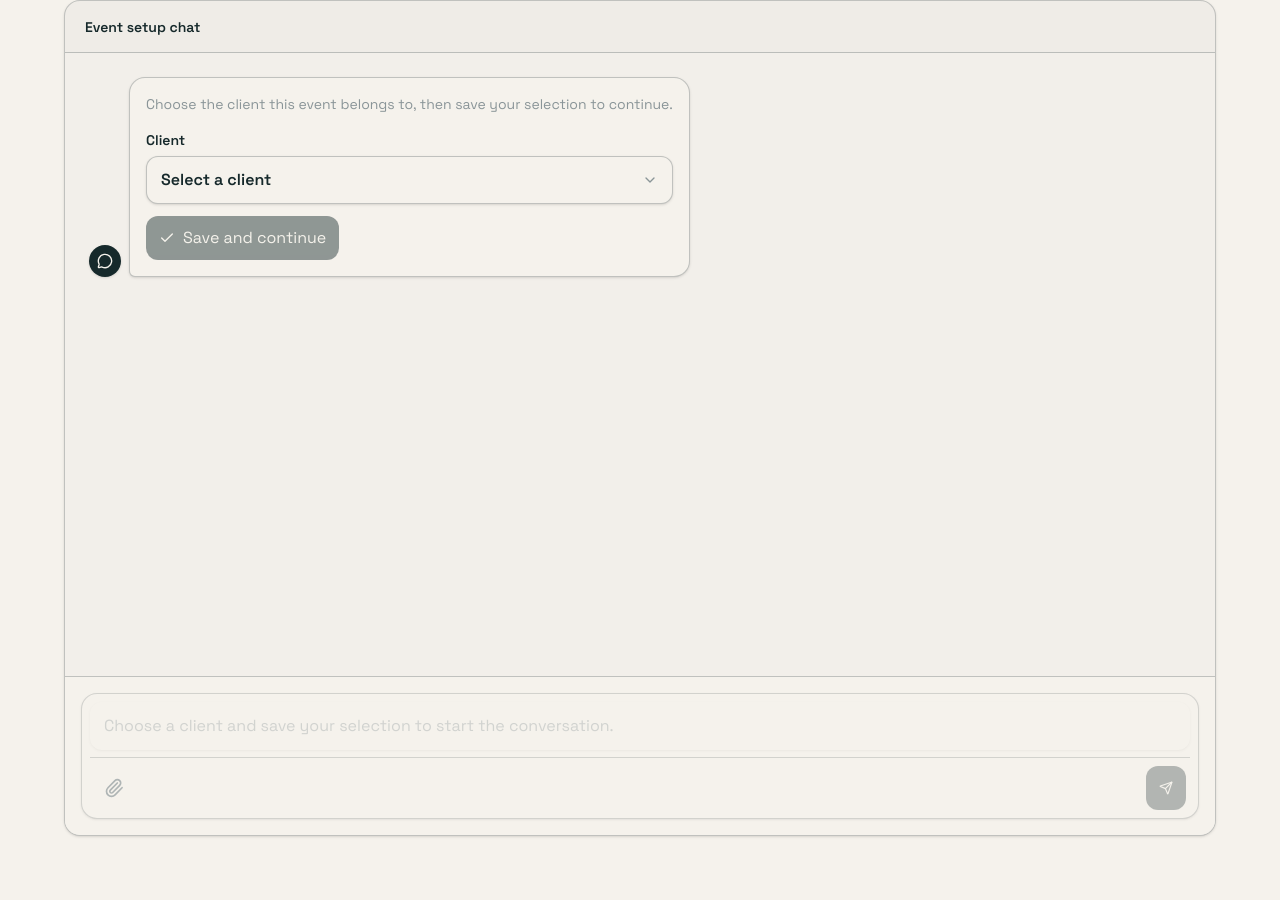
Test: CreateEventPage platform administrator flow › lets SUPER_ADMIN reject a suggested name in the same setup chat
Click the button "Select a client" at (216, 180), box top-left (146, 156), bottom-right (673, 204)
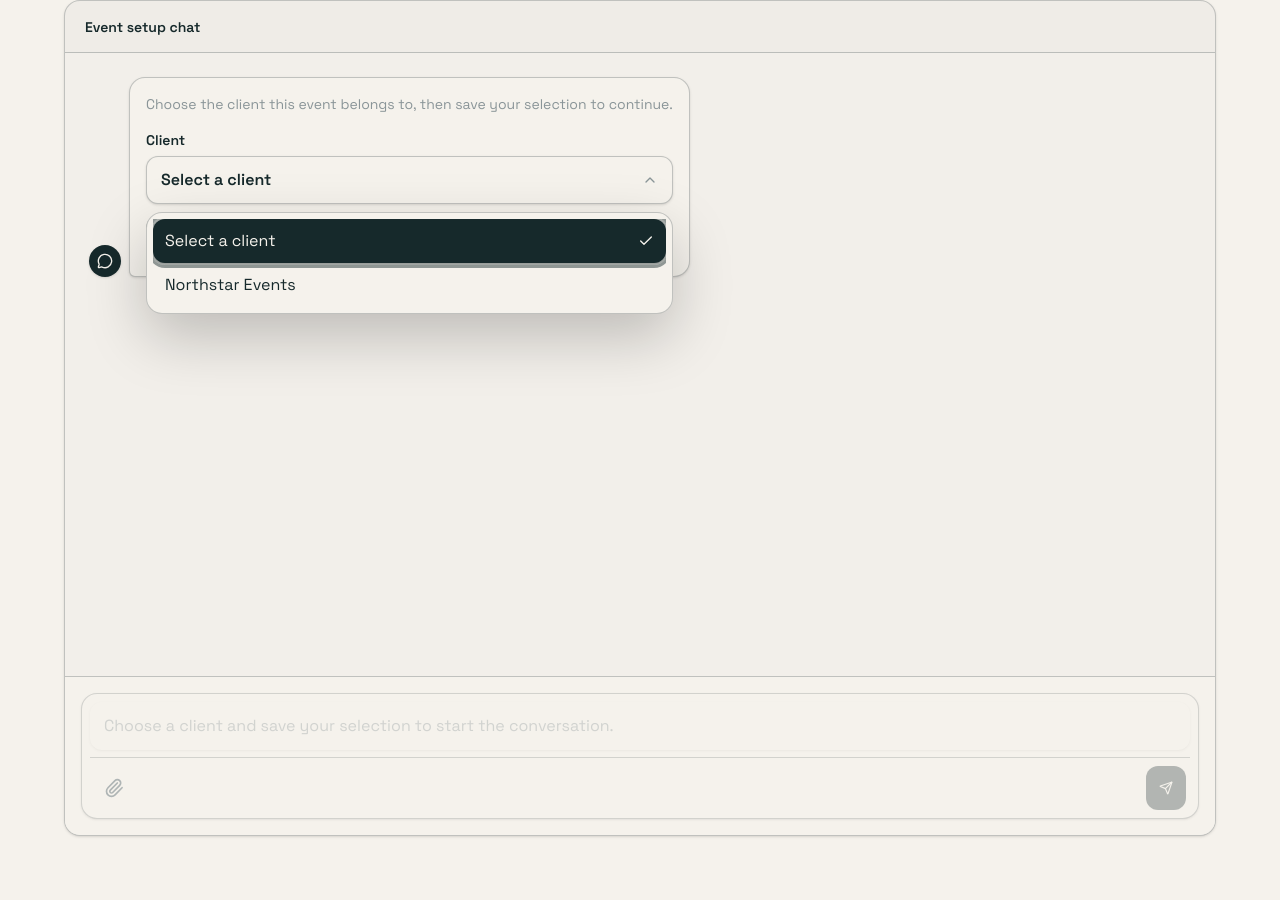
Click the option "Northstar Events" at (230, 284), box top-left (153, 263), bottom-right (666, 307)
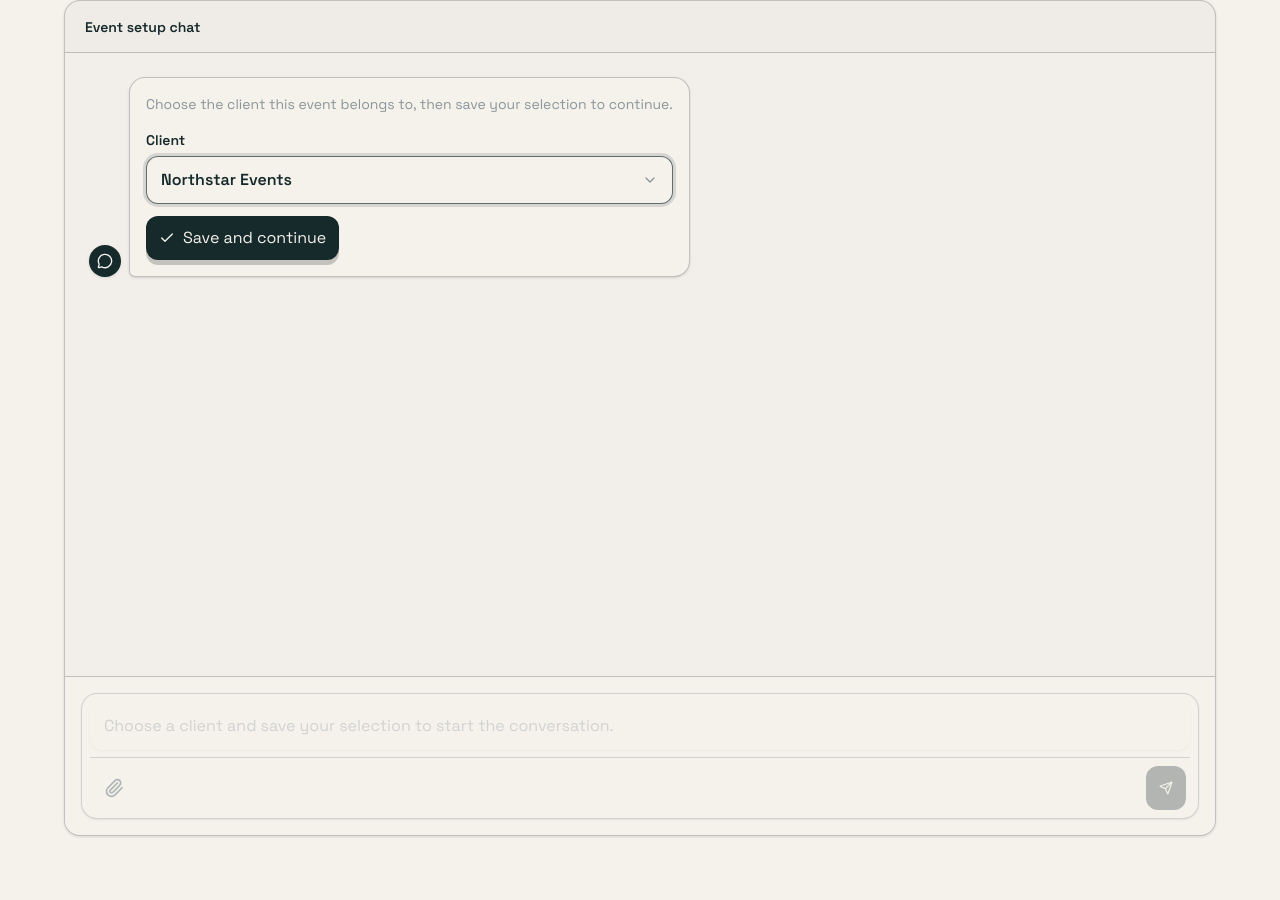
Click the button "Save and continue" at (243, 238), box top-left (146, 216), bottom-right (339, 260)
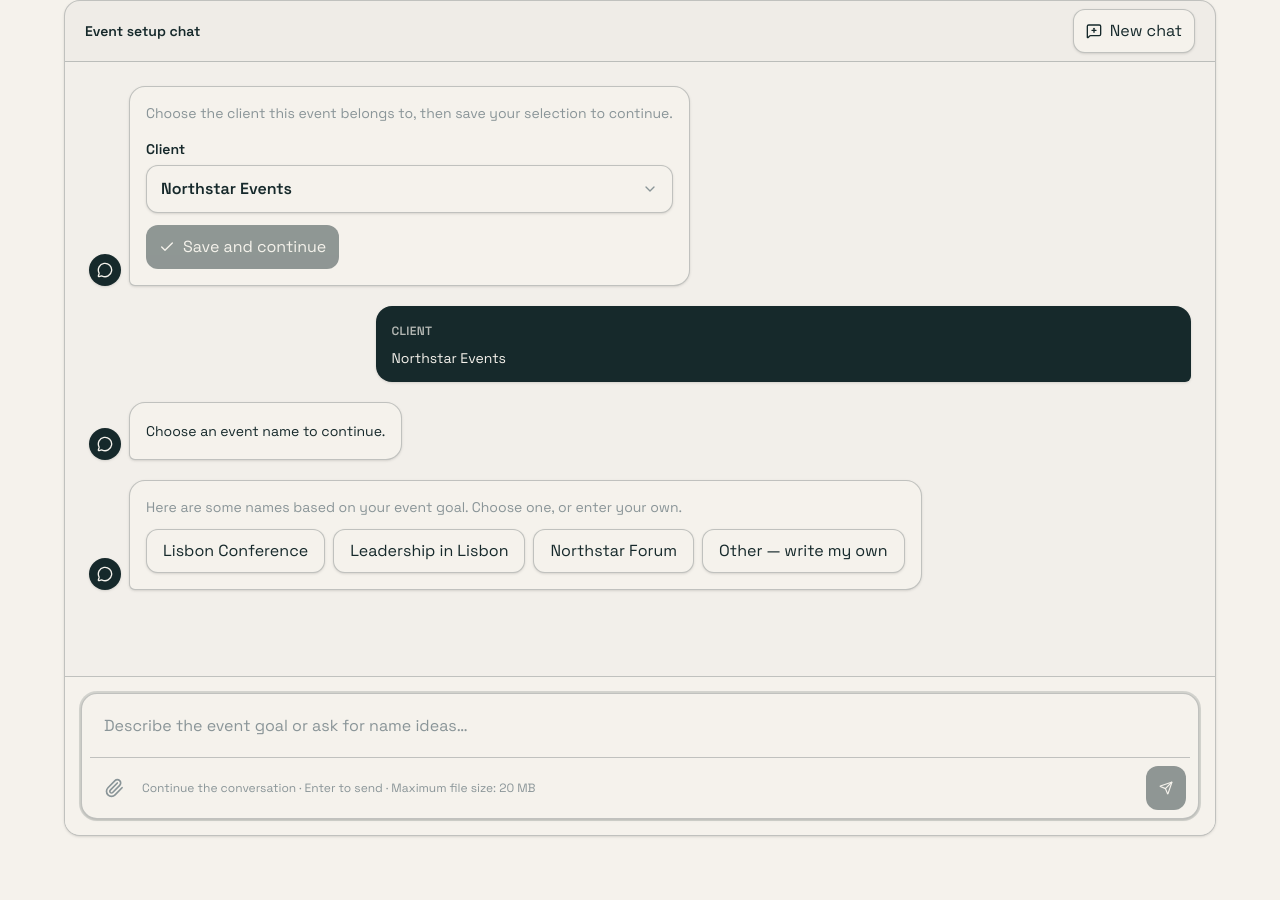
Expected: the button "Lisbon Conference" is shown, top-left (146, 529), bottom-right (325, 573)
Expected: the button "Leadership in Lisbon" is shown, top-left (333, 529), bottom-right (526, 573)
Expected: the button "Northstar Forum" is shown, top-left (534, 529), bottom-right (694, 573)
Click the button "Other — write my own" at (803, 551), box top-left (702, 529), bottom-right (905, 573)
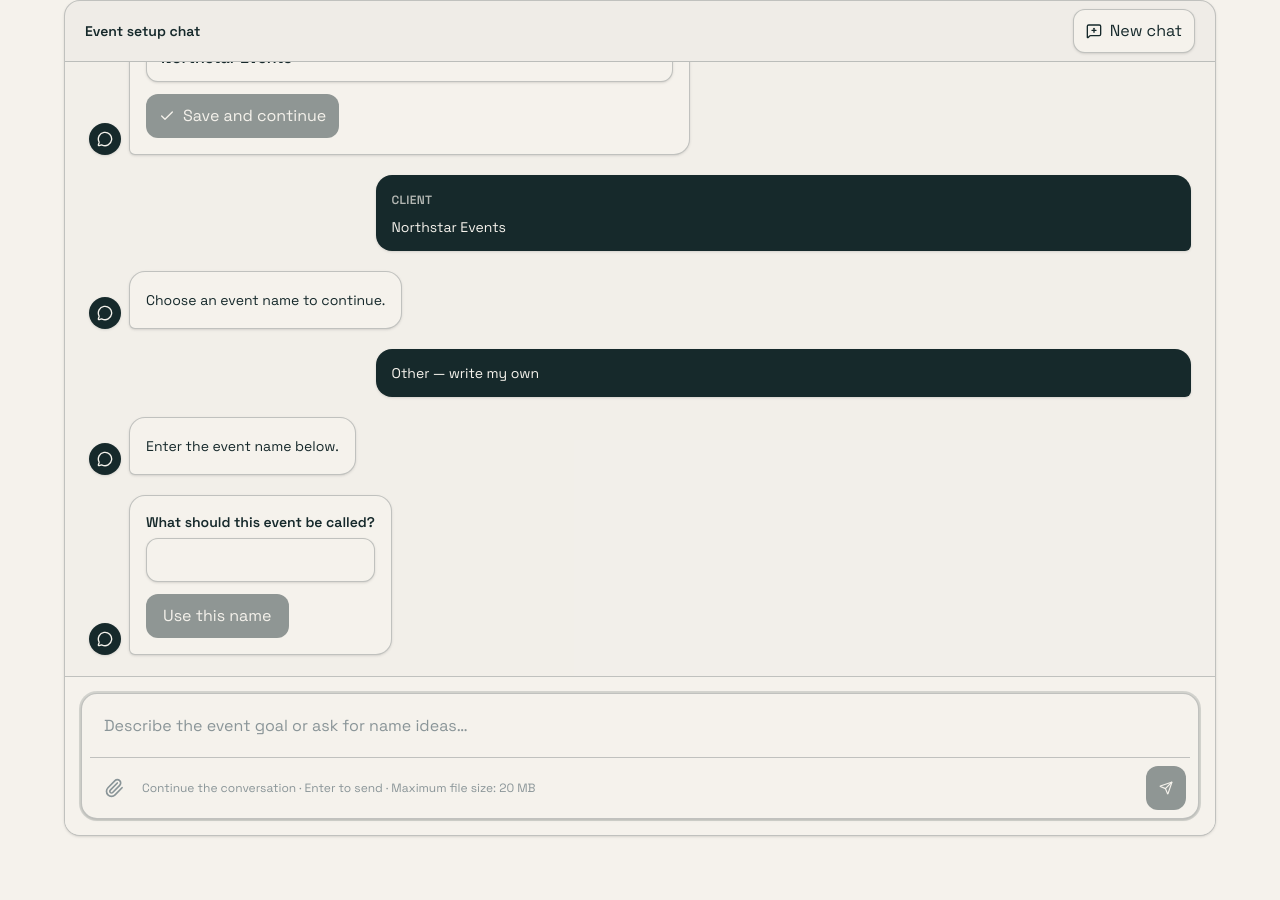
Type "Our custom forum" into the field labelled "What should this event be called?" at (260, 560), box top-left (146, 538), bottom-right (375, 582)
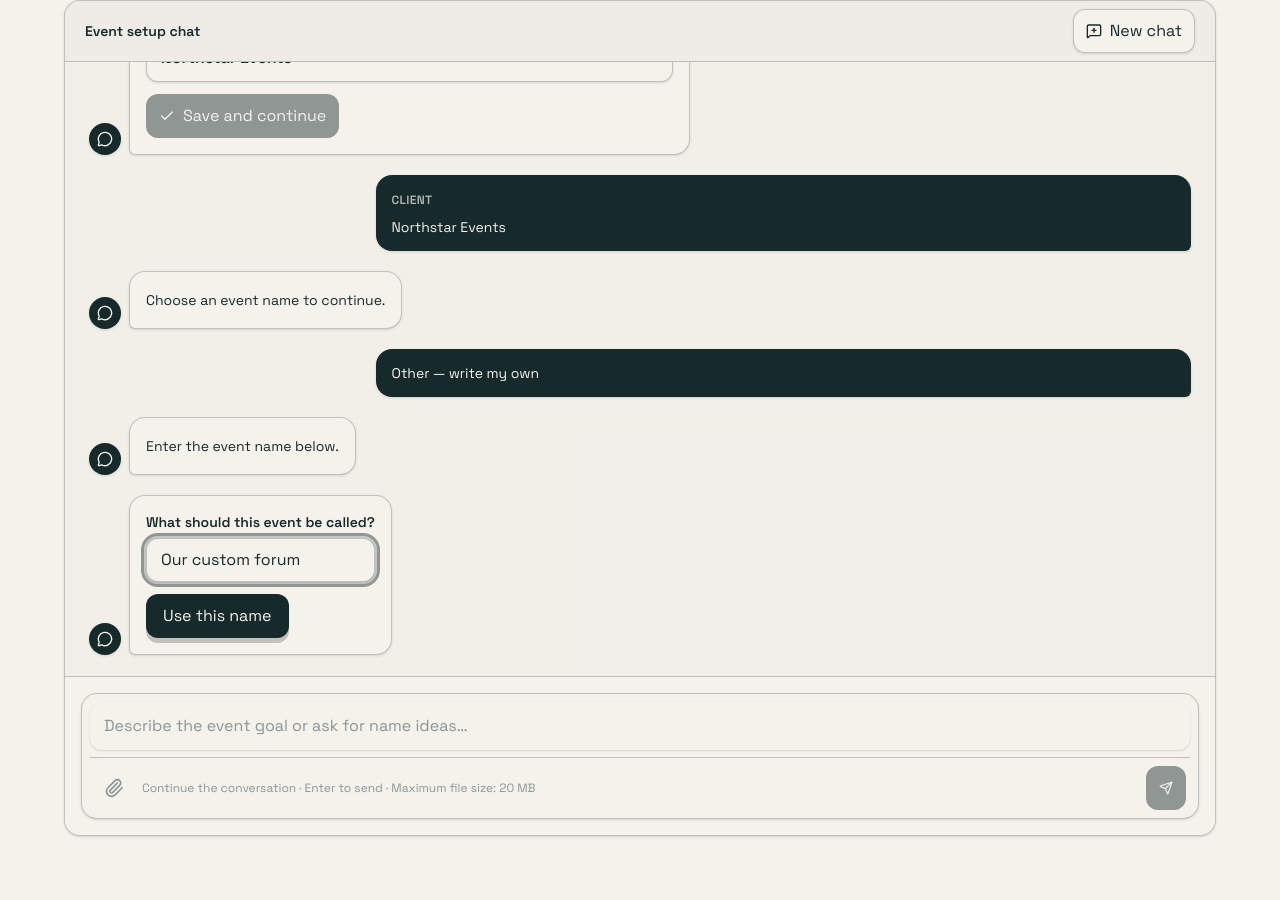
Click the button "Use this name" at (217, 616), box top-left (146, 594), bottom-right (288, 638)
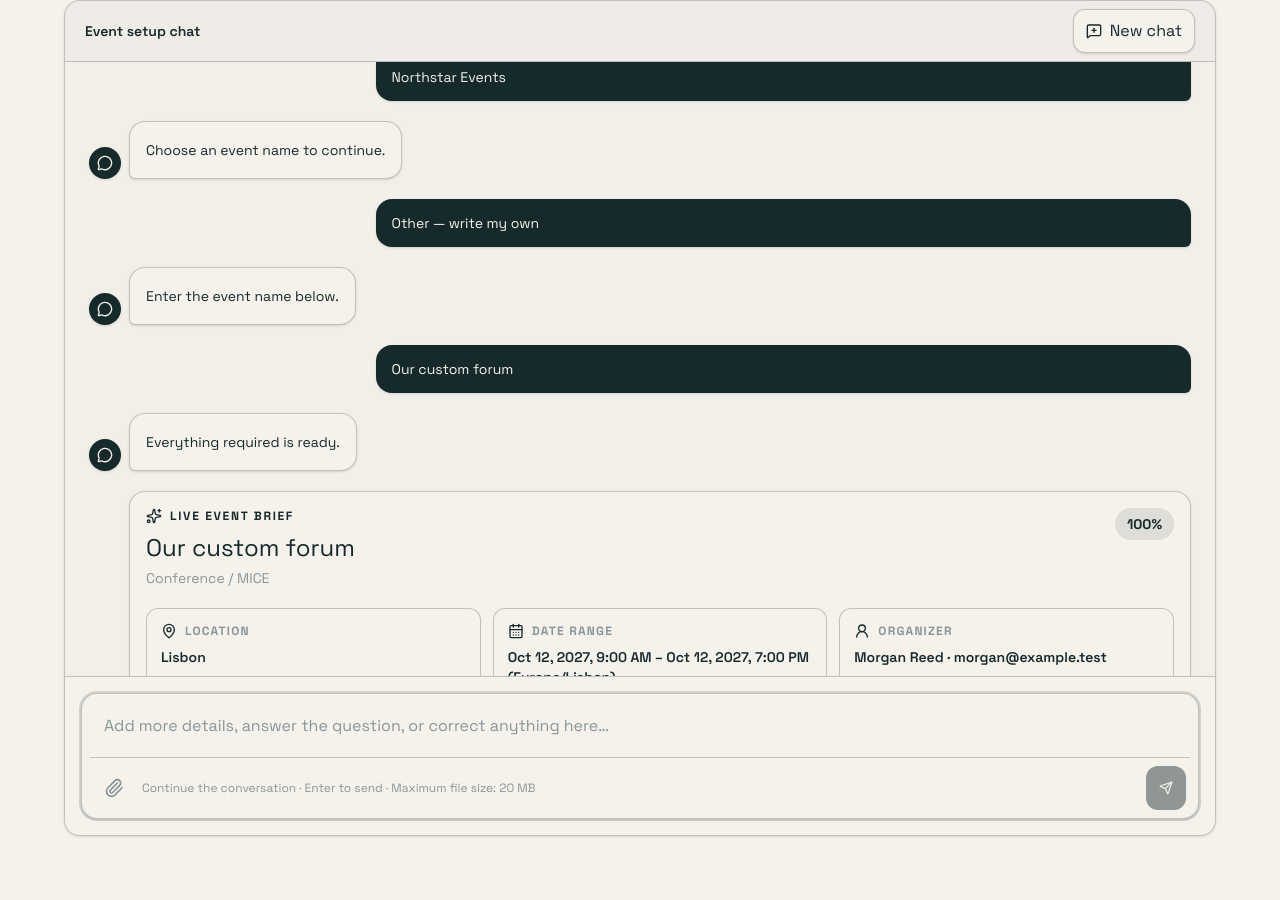
Expected: the text "Our custom forum" is shown, top-left (392, 360), bottom-right (513, 378)
